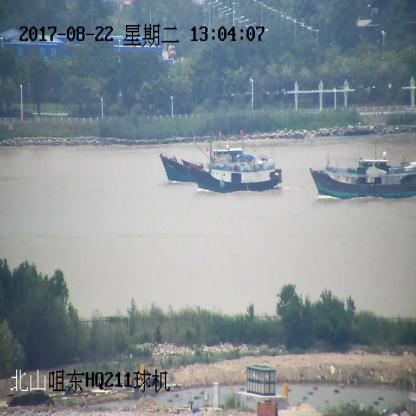Fishing Boat: (310, 153, 416, 199), (191, 151, 282, 194), (161, 144, 256, 183)
